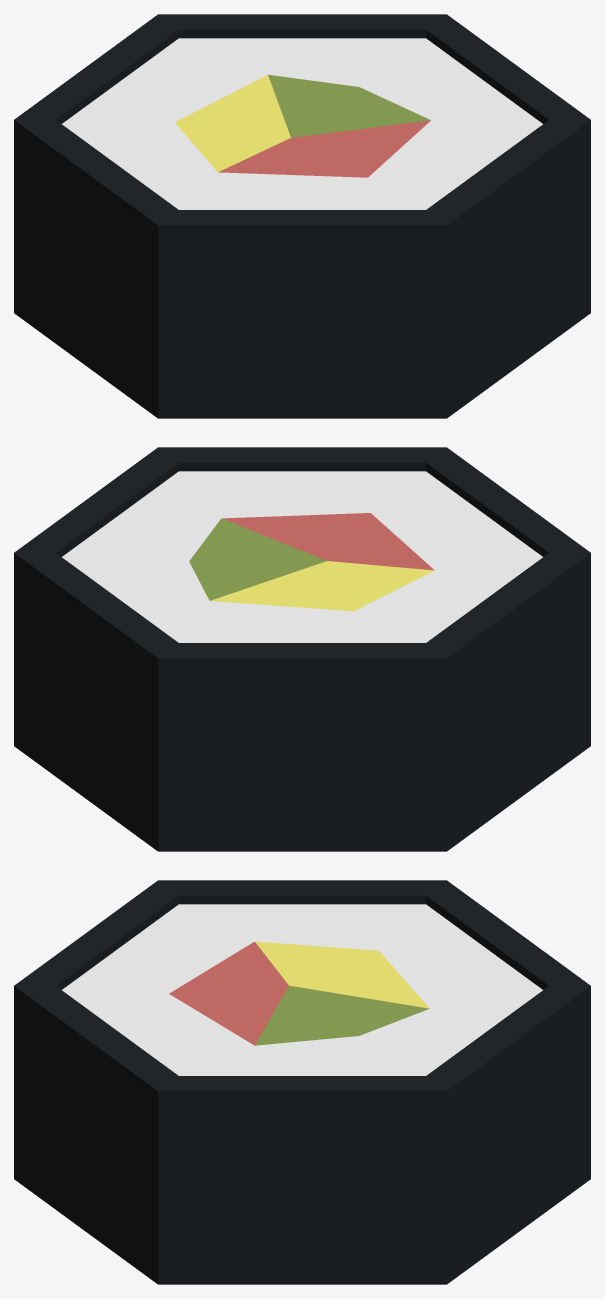
File: Sushi_roll_02.fbx
3 renders of one model, top to bottom at view 1: azimuth 30°, elevation 25°; view 2: azimuth 150°, elevation 25°; view 3: azimuth 270°, elevation 25°, orthographic.
Parts seen in each view (by area): view 1: Sushi_roll_02; view 2: Sushi_roll_02; view 3: Sushi_roll_02.
Boxes of the visible parts, x1,y1,x2,y2 form: Sushi_roll_02: [14, 14, 590, 418]; Sushi_roll_02: [14, 447, 590, 851]; Sushi_roll_02: [14, 880, 590, 1284].
Size of the model in its own units: 6.37 by 2.72 by 7.35.
